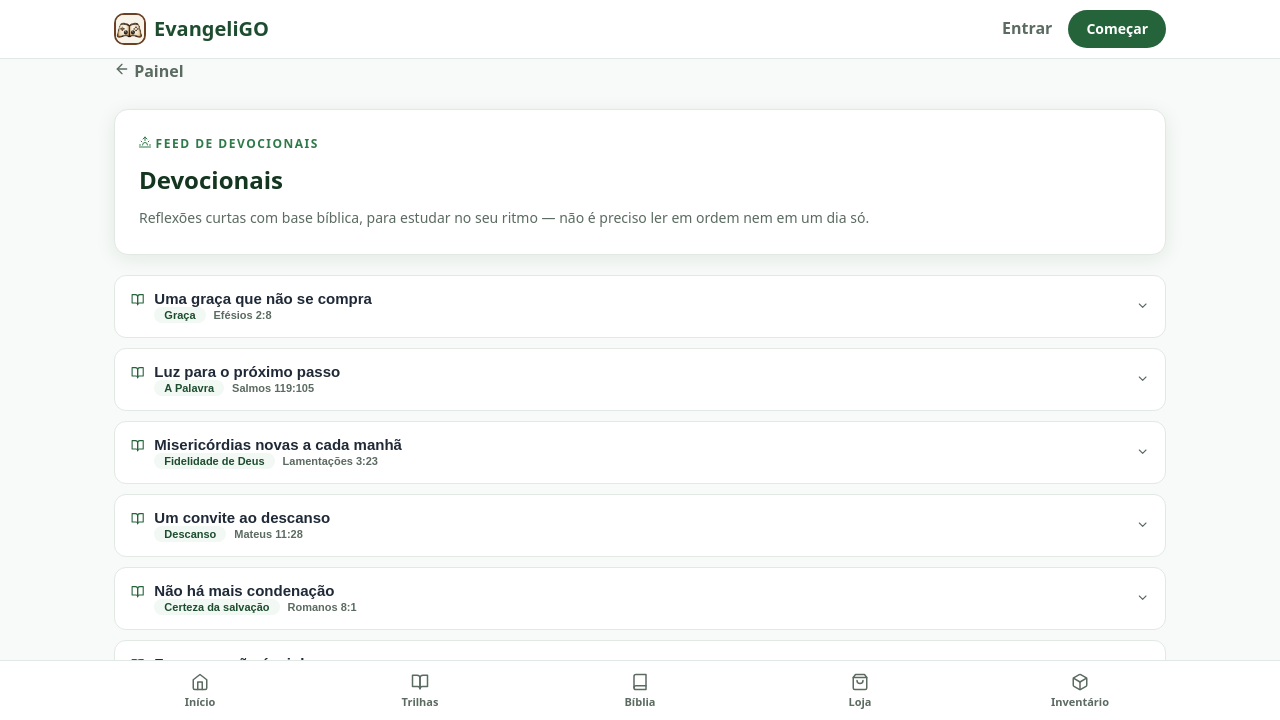
FeedDevocionaisPage › marca o devocional como lido ao expandir
What coordinates should you click on to do the following:
click the button "Uma graça que não se compra Graça Efésios 2:8"
I would click on:
 (263, 298)
Its box is [115,276,1165,337].
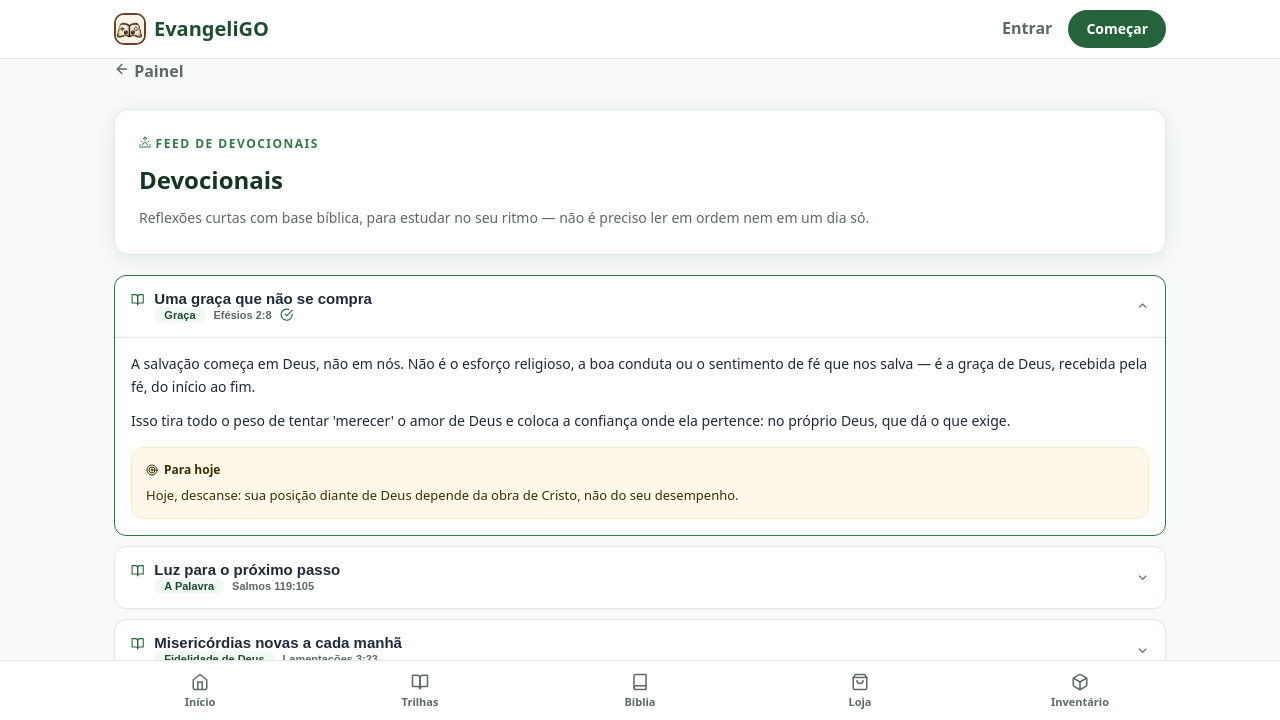
Expected: the icon named "Já lido" is shown, [280,308,293,321]
